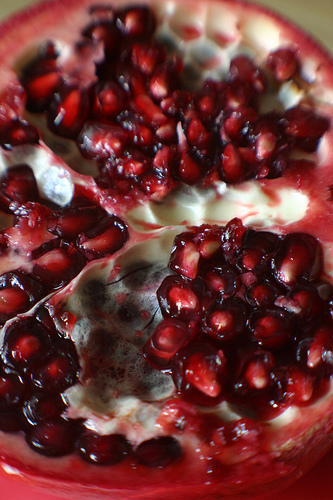pomogranate: (0, 0, 331, 498)
